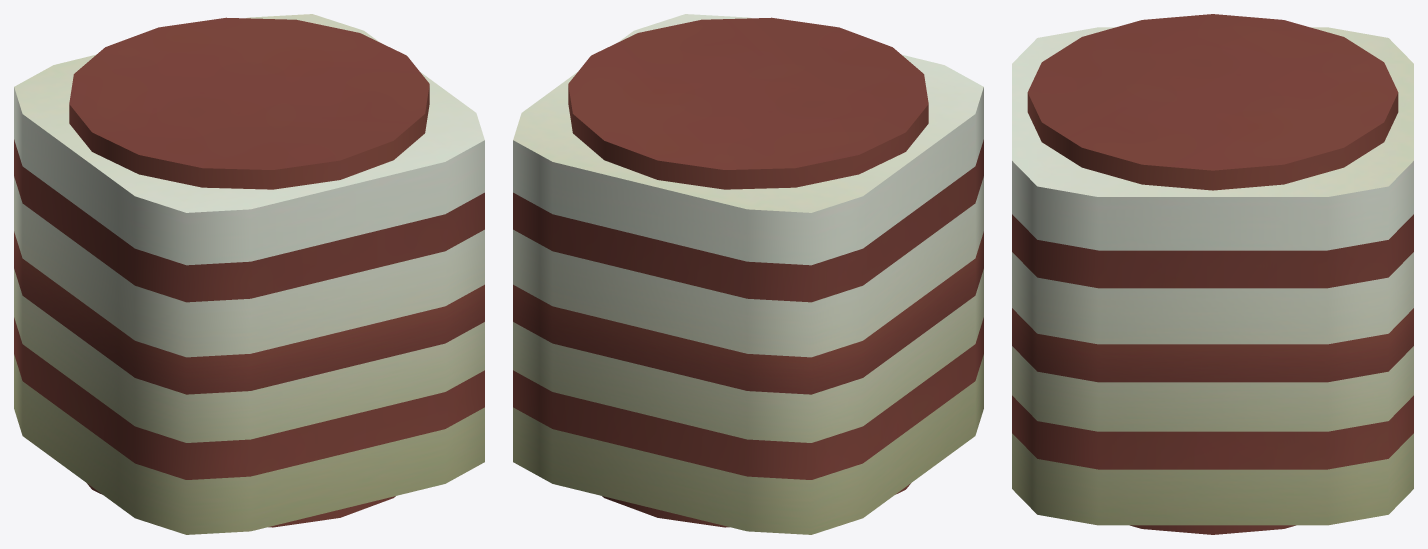
Rendered from Fuel 3.fbx.
3 renders of one model, left to right at view 1: azimuth 30°, elevation 25°; view 2: azimuth 150°, elevation 25°; view 3: azimuth 270°, elevation 25°, orthographic.
Parts seen in each view (by area): view 1: Fuel 3; view 2: Fuel 3; view 3: Fuel 3.
Part boxes in pixels (x1,y1,x2,y2): Fuel 3: (14, 14, 484, 534); Fuel 3: (513, 14, 983, 534); Fuel 3: (1012, 14, 1413, 534).
Size of the model in its own units: 100 by 100 by 100.
